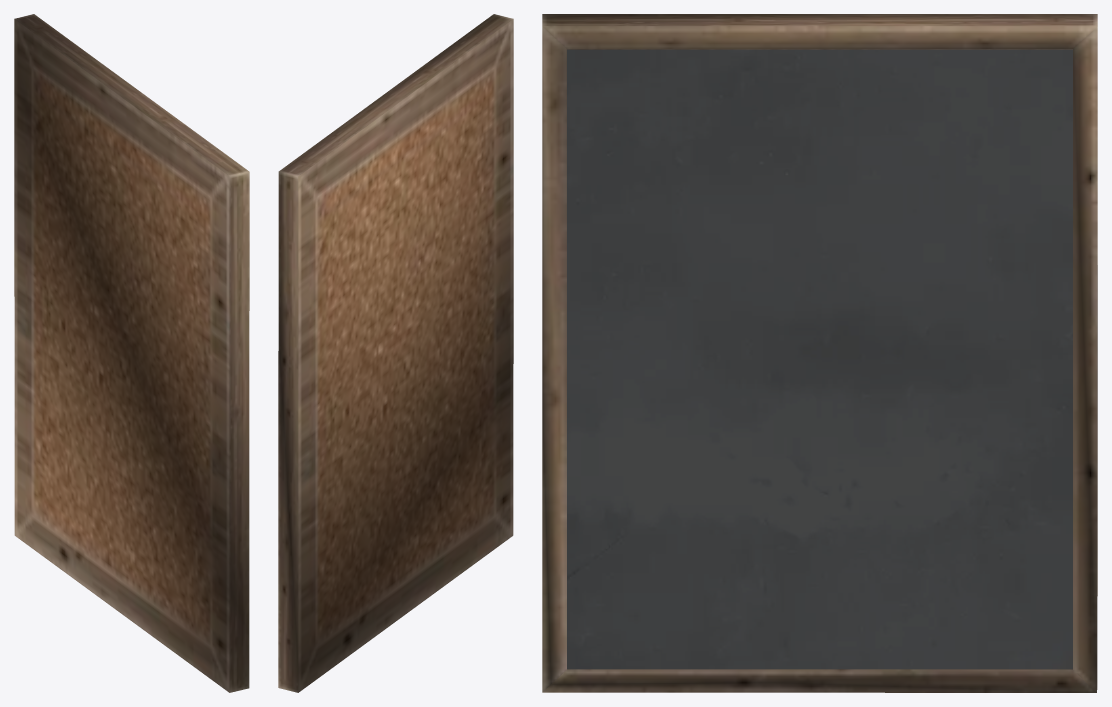
Rendered from bulletin_board_glass_b.glb.
3 views of the same model, side by side, from view 1: azimuth 30°, elevation 25°; view 2: azimuth 150°, elevation 25°; view 3: azimuth 270°, elevation 25° (orthographic). The views are drawn at different scales.
Visible parts, largest first — view 1: bulletin_board_glass_b; view 2: bulletin_board_glass_b; view 3: bulletin_board_glass_b.
Part boxes in pixels (left/top/right/bottom): bulletin_board_glass_b: left=14, top=14, right=249, bottom=692; bulletin_board_glass_b: left=278, top=14, right=513, bottom=692; bulletin_board_glass_b: left=542, top=14, right=1097, bottom=692.
Bounding box in the file's own units: 0.0457 × 1.12 × 0.8426.
Materials: 3 (3 with a texture image).
